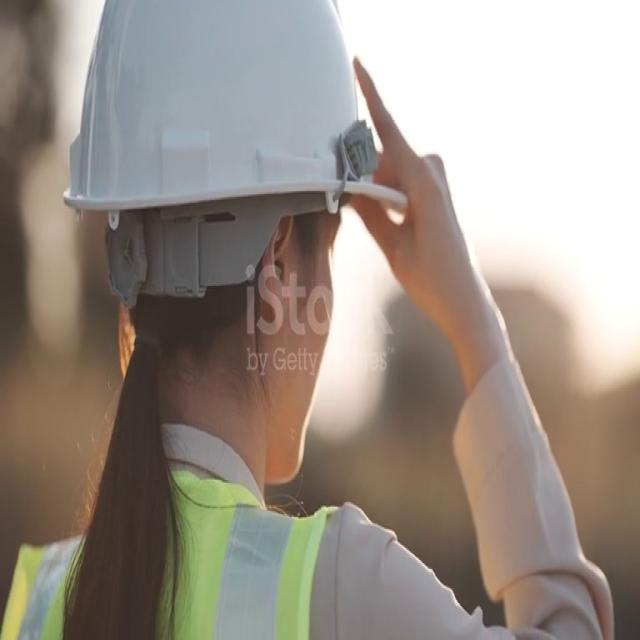capacete: (38, 0, 415, 307)
